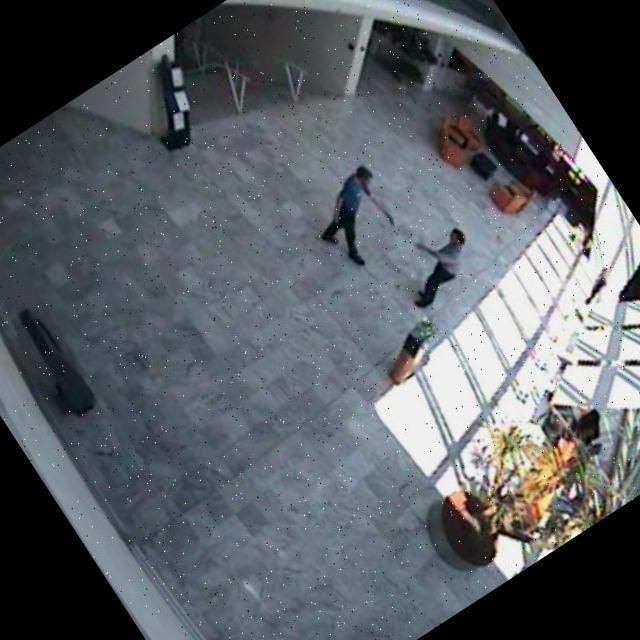person: (296, 158, 414, 279), (384, 214, 489, 316)
